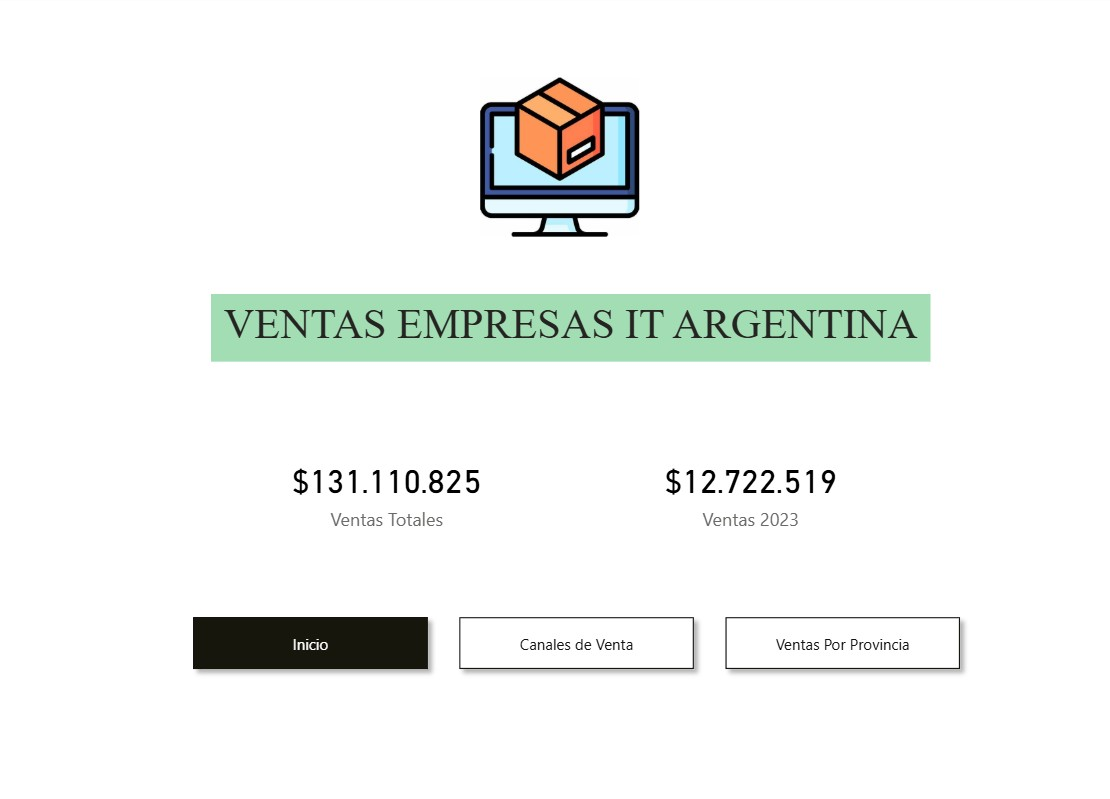

The page's visual inventory and layout, read from the dashboard file:
{"tool":"powerbi","page":{"name":"Inicio","canvas":[1280,720],"ordinal":0},"visuals":[{"type":"textbox","box":[332.6,264.6,638.1,60.3],"z":0},{"type":"card","fields":{"Values":["Sum(tblOrdenDetalle.Venta)"]},"box":[335.6,392,306.4,94.3],"z":1000},{"type":"card","fields":{"Values":["Sum(tblOrdenDetalle.Venta)"]},"box":[657.5,392,306.4,94.3],"z":2000},{"type":"pageNavigator","box":[307.4,542.1,700,64.6],"z":3000},{"type":"image","box":[491.2,67.1,300.5,150.8],"z":4000}]}

Visuals, with their boxes on the page's 1280x720 design canvas (x1, y1, x2, y2). These are canvas units, not pixel positions in the 1110x799 screenshot, which may show the page scaled, cropped or inside an application window:
textbox: (333,265,971,325)
card - Sum(tblOrdenDetalle.Venta): (336,392,642,486)
card - Sum(tblOrdenDetalle.Venta): (658,392,964,486)
pageNavigator: (307,542,1007,607)
image: (491,67,792,218)
